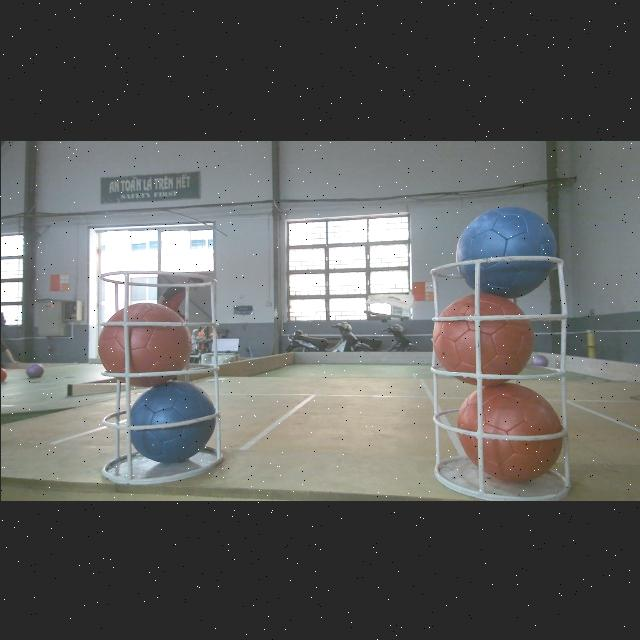B: (453, 202, 557, 296), (125, 376, 221, 470)
R: (456, 380, 562, 488), (430, 296, 534, 384), (96, 300, 192, 380)
